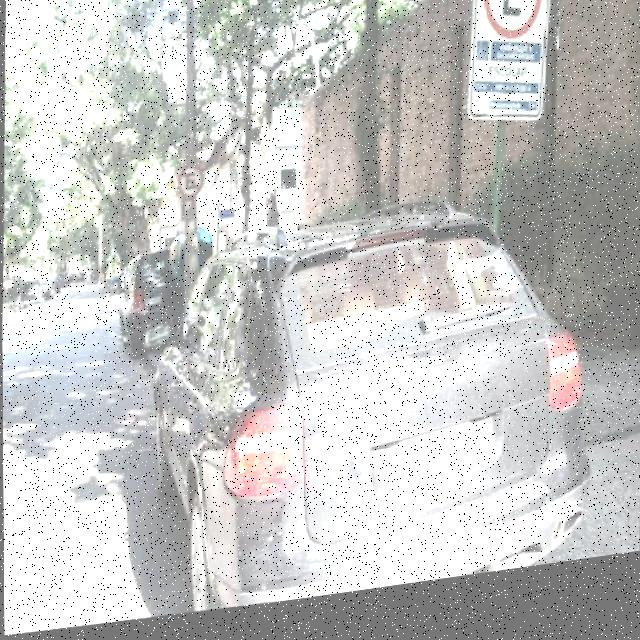license_plate: (397, 434, 473, 492), (142, 299, 162, 310)
